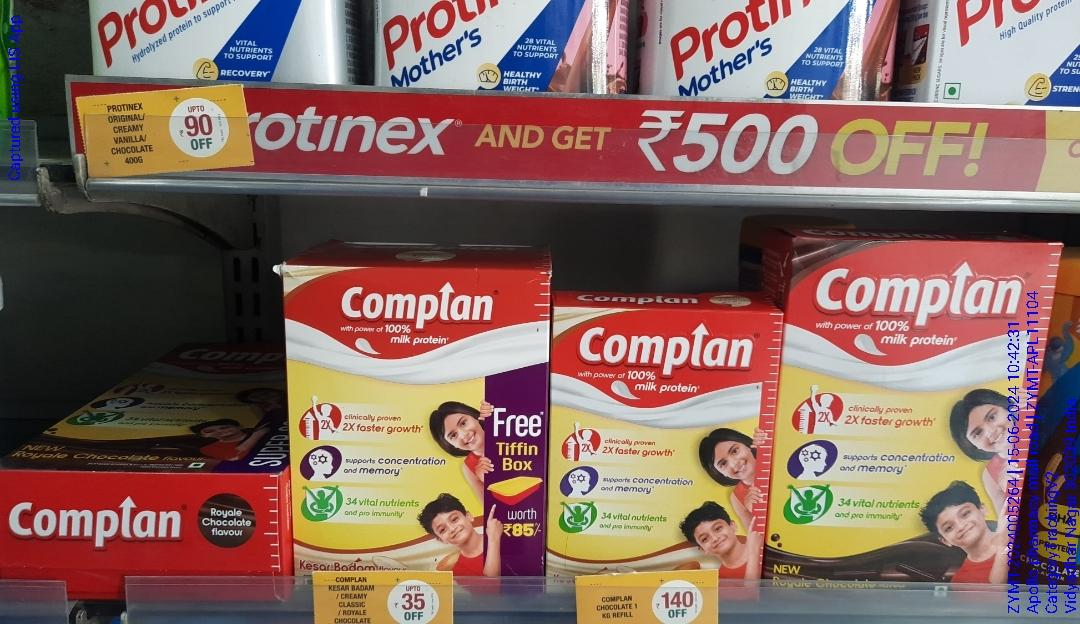COMPLAN_CHOCOLATE_500_GMS_PACK: (786, 241, 1042, 602)
COMPLAN_KESAR_BADAM_200_GMS_PACK: (551, 304, 766, 568)
COMPLAN_KESAR_BADAM_500_GMS_PACK: (292, 270, 539, 572)
